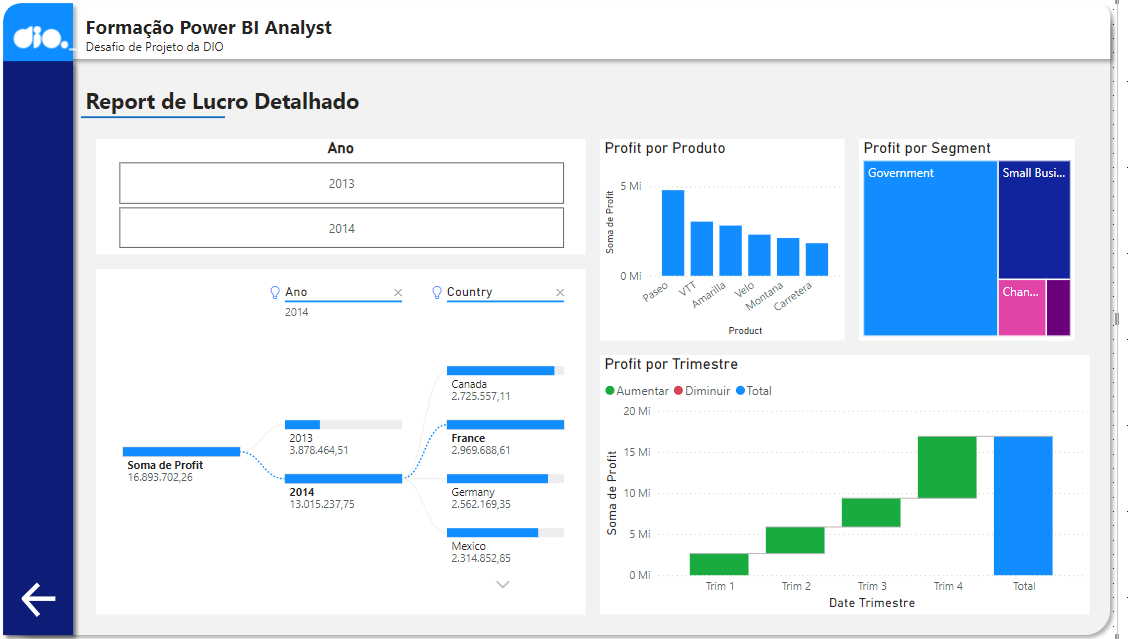

What the dashboard file says about the page in this screenshot:
{"tool":"powerbi","page":{"name":"Página 2","canvas":[1280,720],"ordinal":1},"visuals":[{"type":"group","id":"g1","title":"Grupo 1","box":[0,0,1248,720],"z":0},{"type":"shape","title":"Background","box":[0,0,1248,720],"z":500,"group":"g1"},{"type":"actionButton","title":"Botão - Seta","box":[25,640,48,64],"z":1000},{"type":"textbox","box":[96,96,352,64],"z":2000},{"type":"slicer","title":"Ano","fields":{"Values":["financials.Date.Variation.Hierarquia de datas.Ano"]},"box":[112,160,544,128],"z":2001},{"type":"decompositionTreeVisual","fields":{"Analyze":["Sum(financials.Profit)"],"ExplainBy":["financials.Date.Variation.Hierarquia de datas.Ano","financials.Country"]},"box":[112,304,544,384],"z":2002},{"type":"waterfallChart","title":"Profit por Trimestre","fields":{"Category":["financials.Date.Variation.Hierarquia de datas.Trimestre"],"Y":["Sum(financials.Profit)"]},"box":[672,400,544,288],"z":2003},{"type":"columnChart","title":"Profit por Produto","fields":{"Category":["financials.Product"],"Y":["Sum(financials.Profit)"]},"box":[672,160,272,224],"z":2004},{"type":"treemap","title":"Profit por Segment","fields":{"Values":["Sum(financials.Profit)"],"Group":["financials.Segment"]},"box":[960,160,240,224],"z":2005},{"type":"shape","box":[32,0,1216,80],"z":7250,"group":"g1"},{"type":"shape","box":[0,0,96,720],"z":7500,"group":"g1"},{"type":"shape","box":[0,64,96,656],"z":8000,"group":"g1"},{"type":"shape","box":[96,128,160,16],"z":12000,"group":"g1"},{"type":"image","box":[16,16,80,64],"z":13000,"group":"g1"},{"type":"textbox","box":[96,16,448,64],"z":13500,"group":"g1"}]}

Visuals, with their boxes on the page's 1280x720 design canvas (x1, y1, x2, y2). These are canvas units, not pixel positions in the 1138x639 screenshot, which may show the page scaled, cropped or inside an application window:
"Grupo 1" group: region(0, 0, 1248, 720)
"Background" shape: region(0, 0, 1248, 720)
"Botão - Seta" actionButton: region(25, 640, 73, 704)
textbox: region(96, 96, 448, 160)
"Ano" slicer: region(112, 160, 656, 288)
decompositionTreeVisual - Sum(financials.Profit) x financials.Date.Variation.Hierarquia de datas.Ano: region(112, 304, 656, 688)
"Profit por Trimestre" waterfallChart: region(672, 400, 1216, 688)
"Profit por Produto" columnChart: region(672, 160, 944, 384)
"Profit por Segment" treemap: region(960, 160, 1200, 384)
shape: region(32, 0, 1248, 80)
shape: region(0, 0, 96, 720)
shape: region(0, 64, 96, 720)
shape: region(96, 128, 256, 144)
image: region(16, 16, 96, 80)
textbox: region(96, 16, 544, 80)
